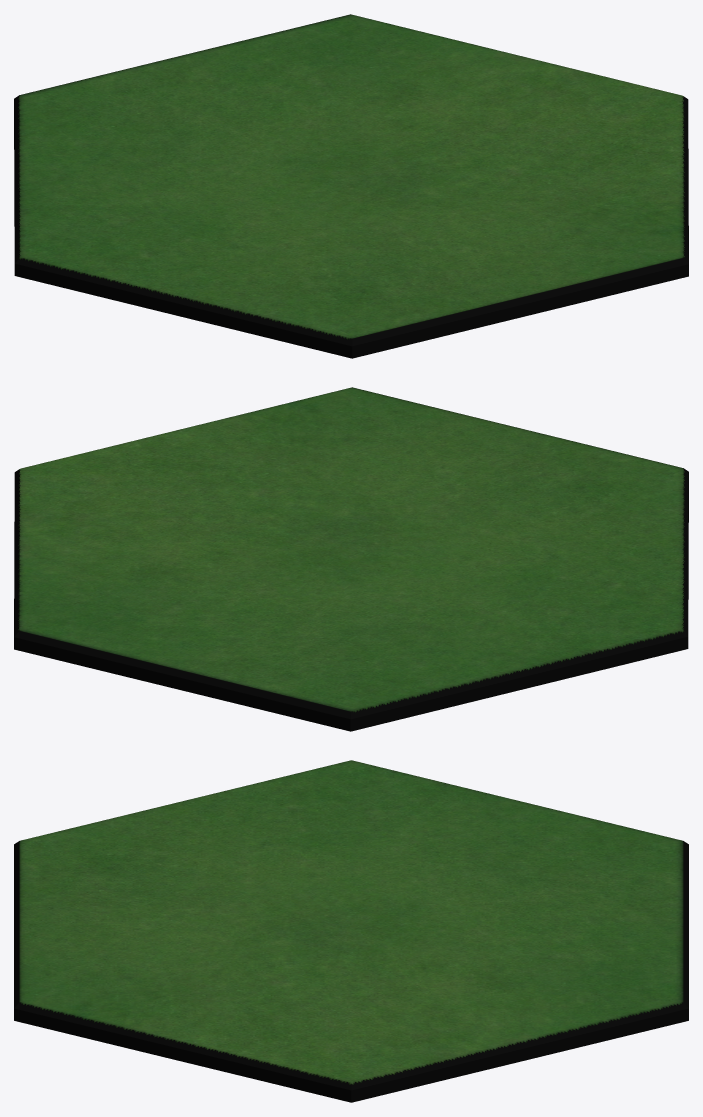
The model's file is HexGrass.glb.
3 renders of one model, top to bottom at view 1: azimuth 30°, elevation 25°; view 2: azimuth 150°, elevation 25°; view 3: azimuth 270°, elevation 25°, orthographic.
Parts seen in each view (by area): view 1: HexGrass; view 2: HexGrass; view 3: HexGrass.
Part boxes in pixels (<box>): HexGrass: <box>14,14,688,358</box>; HexGrass: <box>14,387,688,731</box>; HexGrass: <box>14,760,688,1102</box>.
Bounding box in the file's own units: 1.99 × 0.0486 × 1.73.
1 material, 1 textured.
